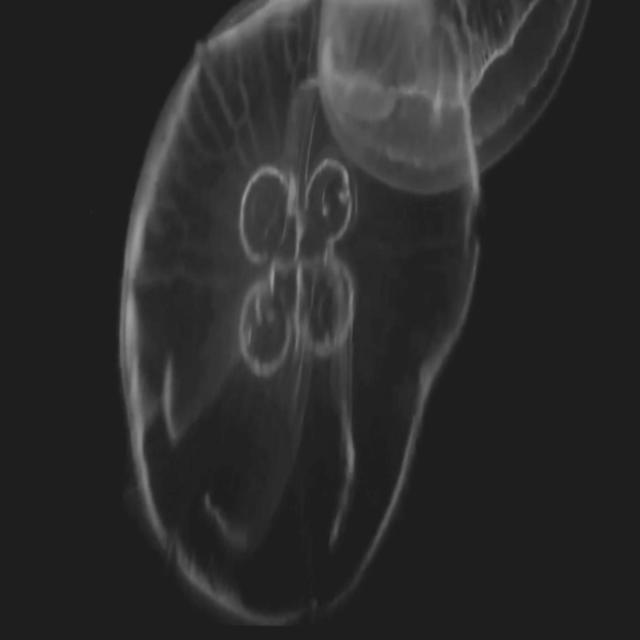Moon-jellyfish: (120, 0, 591, 629)
